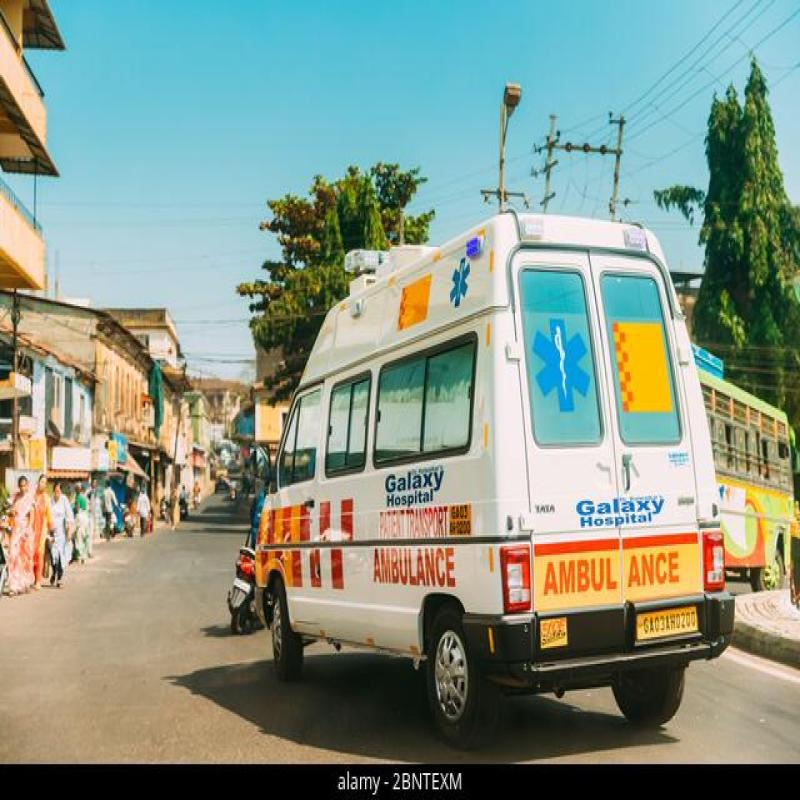ambulance: (216, 213, 735, 696)
